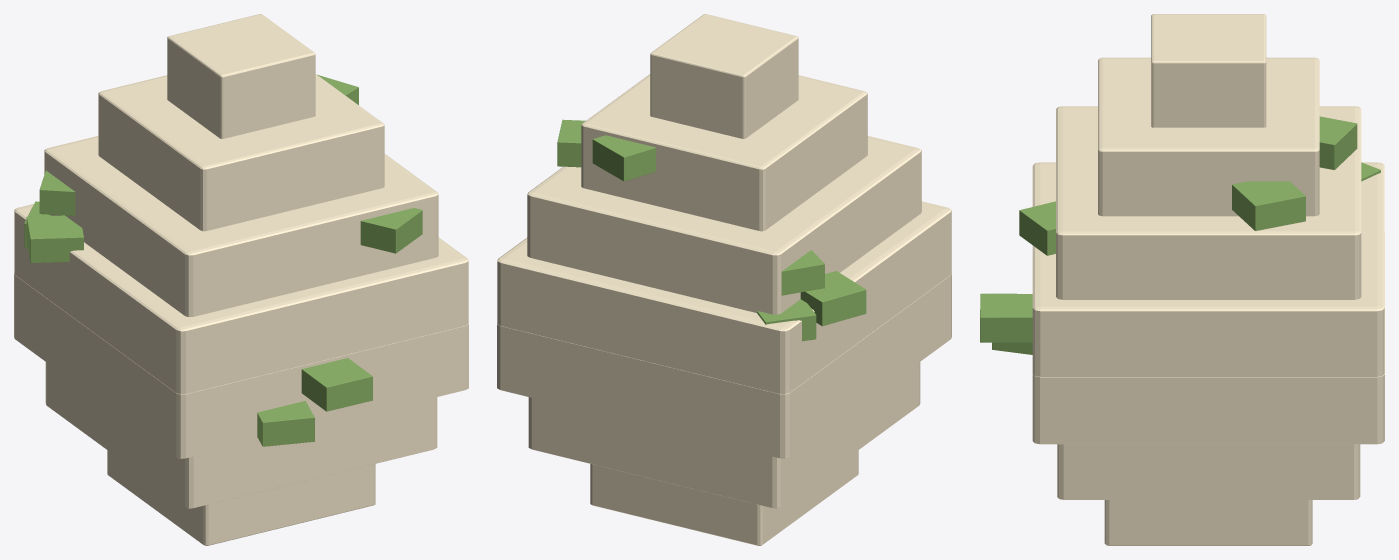
File: egg-forest.glb
3 views of the same model, side by side, from view 1: azimuth 30°, elevation 25°; view 2: azimuth 150°, elevation 25°; view 3: azimuth 270°, elevation 25° (orthographic). The views are drawn at different scales.
Visible parts, largest first — view 1: body; view 2: body; view 3: body.
Boxes of the visible parts, x1,y1,x2,y2 form: body: (14,14,468,545); body: (497,14,951,545); body: (980,14,1384,545).
Size of the model in its own units: 0.7573 by 1 by 0.7883.
